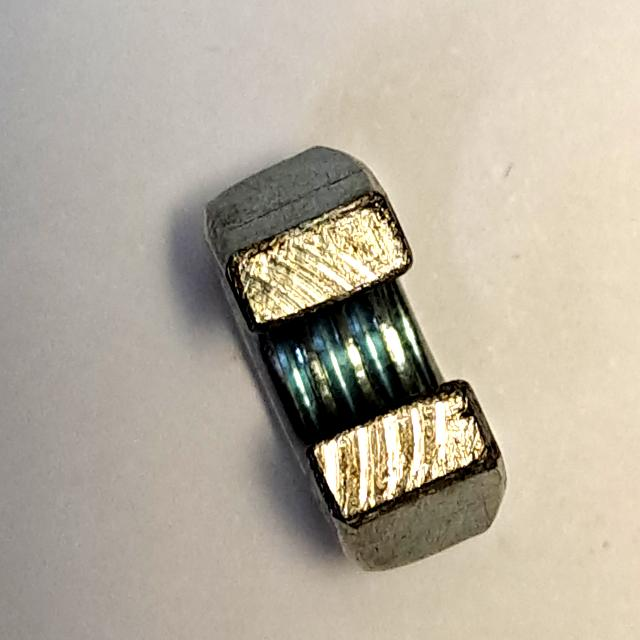Side-Fracture: (184, 136, 529, 589)
